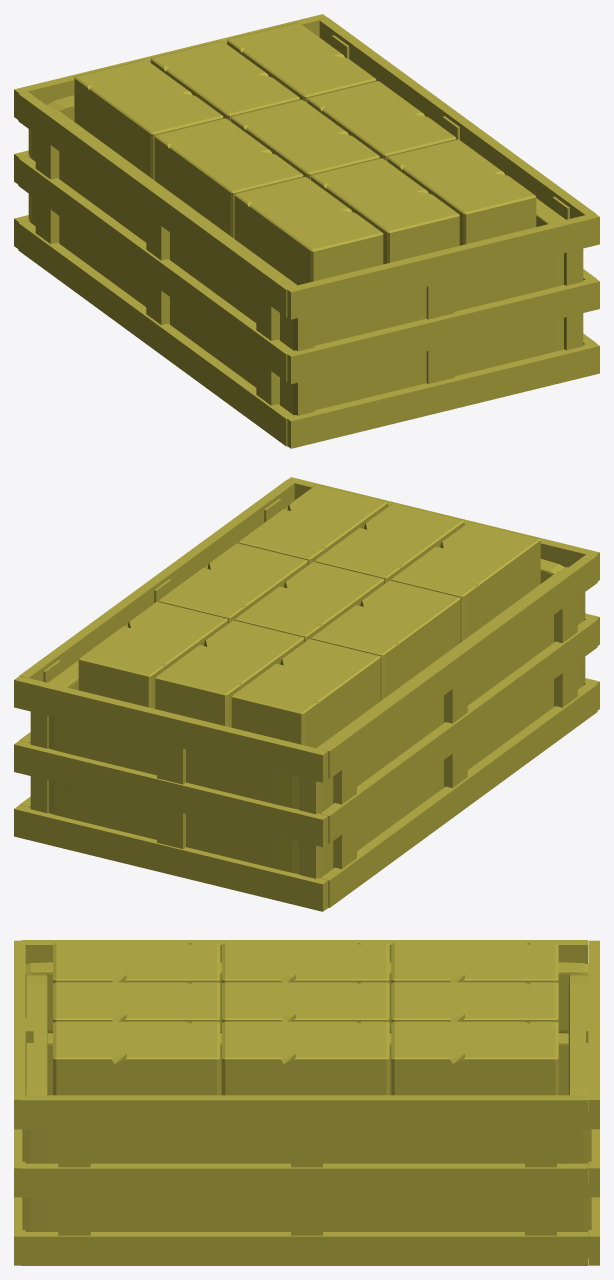
File: Caixa de Metal Com metal Final.fbx
The picture shows the model from 3 angles, top to bottom: view 1: azimuth 30°, elevation 25°; view 2: azimuth 150°, elevation 25°; view 3: azimuth 270°, elevation 25°; orthographic projection. The views are drawn at different scales.
Visible parts, largest first — view 1: Caixa, Metal; view 2: Caixa, Metal; view 3: Caixa, Metal.
Boxes of the visible parts, x1,y1,x2,y2 form: Caixa: (14,14,599,448); Metal: (74,22,536,285); Caixa: (14,477,599,911); Metal: (78,484,540,748); Caixa: (14,940,599,1265); Metal: (53,942,558,1095).
Size of the model in its own units: 213 by 116 by 329.
